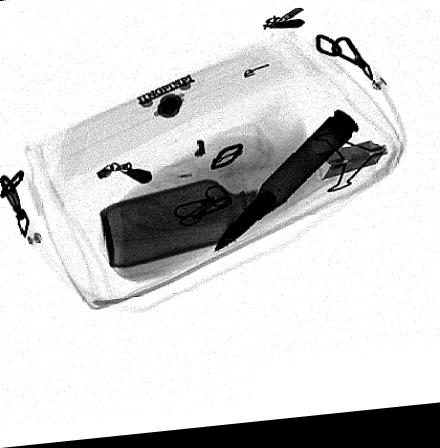Bullet: (212, 116, 359, 259)
